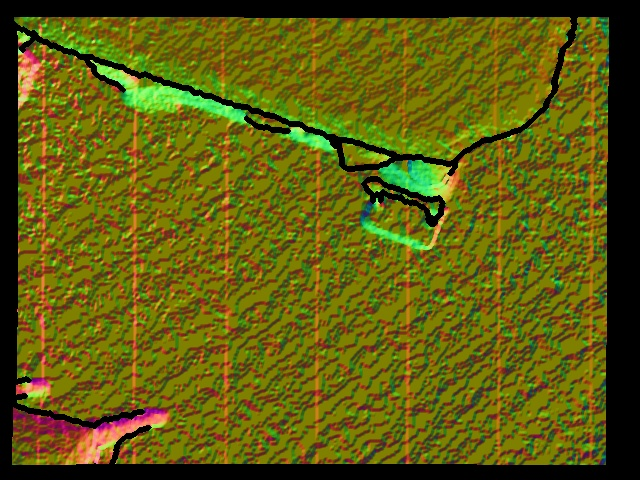station: (358, 178, 454, 252)
